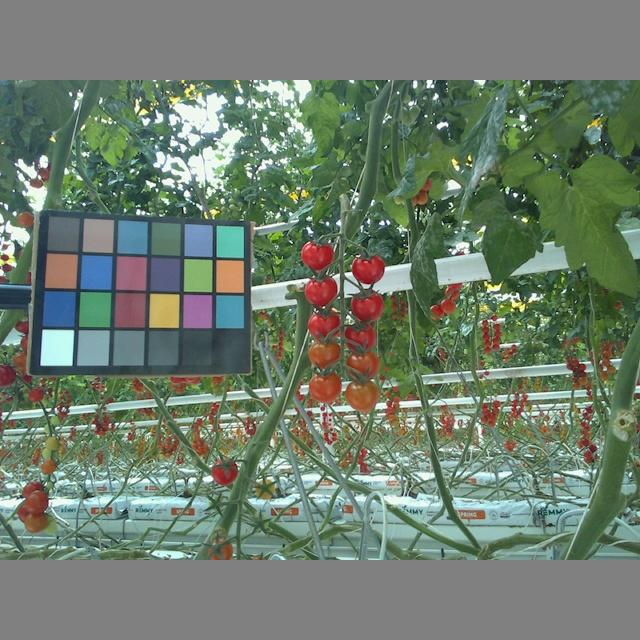pink: (344, 378, 379, 413), (309, 340, 341, 371), (204, 536, 235, 560), (251, 475, 276, 499)
red: (310, 368, 343, 404), (303, 275, 340, 307), (348, 291, 386, 322), (346, 350, 380, 384), (353, 252, 386, 286), (299, 239, 335, 270), (344, 322, 377, 355), (307, 309, 342, 338), (211, 456, 238, 486)
